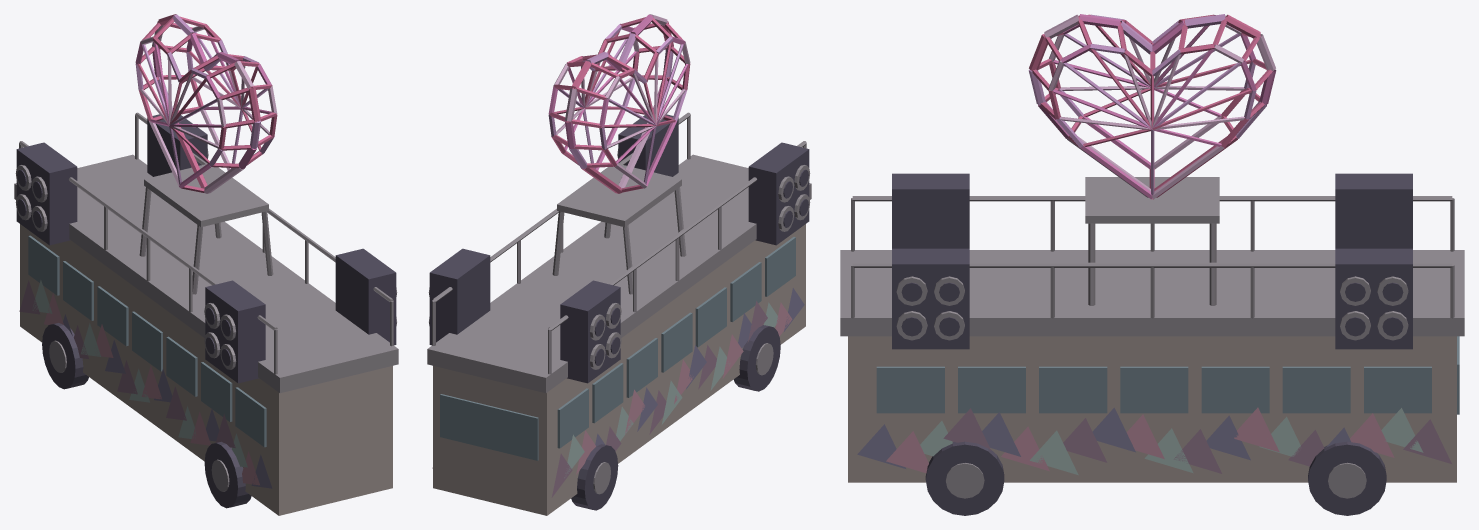
The model's file is robot-heart.glb.
3 renders of one model, left to right at view 1: azimuth 30°, elevation 25°; view 2: azimuth 150°, elevation 25°; view 3: azimuth 270°, elevation 25°, orthographic. The views are drawn at different scales.
Visible parts, largest first — view 1: Robot Heart bus; view 2: Robot Heart bus; view 3: Robot Heart bus.
Boxes of the visible parts, bbox=[...] form: Robot Heart bus: bbox=[14, 14, 398, 515]; Robot Heart bus: bbox=[427, 14, 811, 515]; Robot Heart bus: bbox=[840, 14, 1464, 515].
Bounding box in the file's own units: 3.6 × 8.19 × 10.
